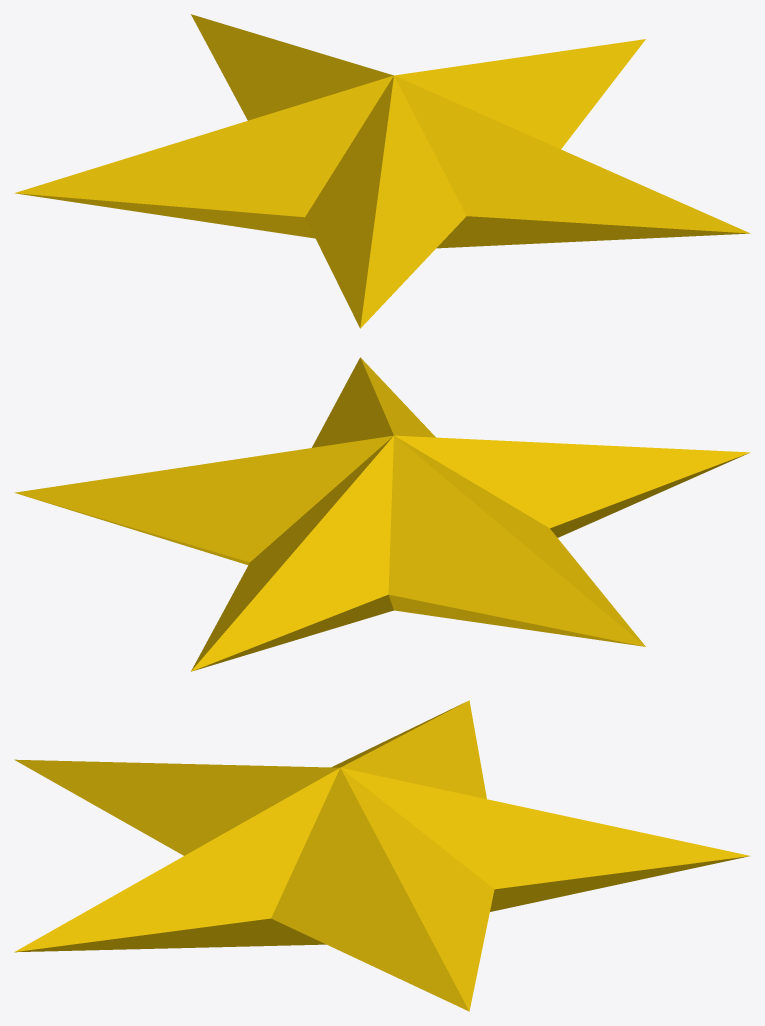
The model's file is LowPolyStar2.fbx.
3 views of the same model, one above another, from view 1: azimuth 30°, elevation 25°; view 2: azimuth 150°, elevation 25°; view 3: azimuth 270°, elevation 25° (orthographic).
Parts seen in each view (by area): view 1: Circle; view 2: Circle; view 3: Circle.
Part boxes in pixels (x1,y1,x2,y2): Circle: [14, 14, 750, 328]; Circle: [14, 357, 750, 671]; Circle: [14, 700, 749, 1011].
Size of the model in its own units: 100 by 26.44 by 100.
